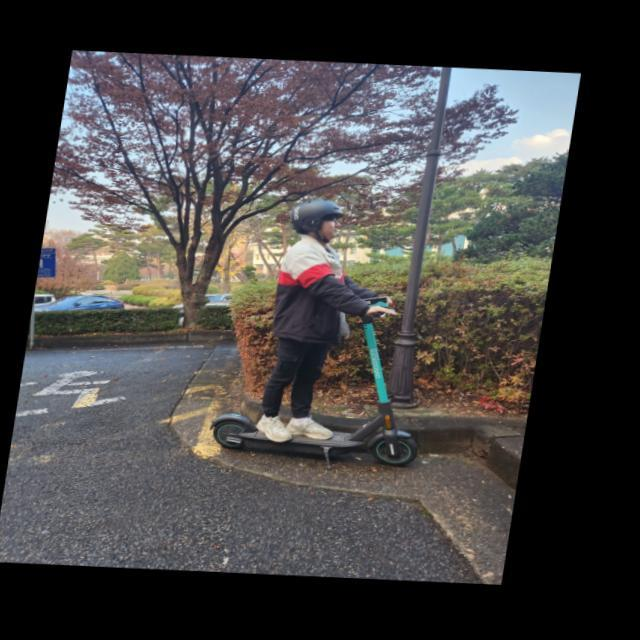Helmet: (292, 190, 350, 251)
